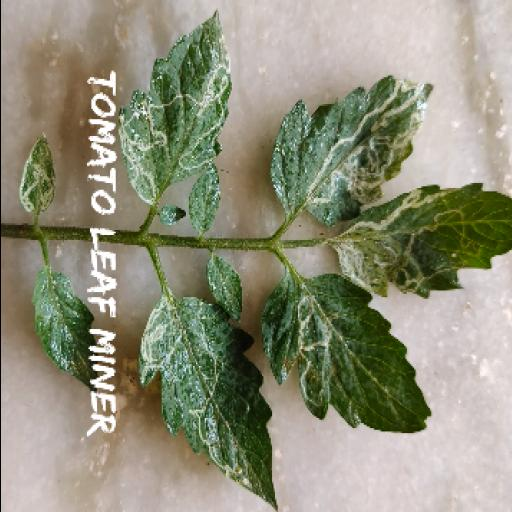Leaf Miner: (138, 294, 279, 512), (259, 274, 433, 434), (268, 72, 436, 228), (116, 6, 234, 206), (336, 179, 512, 297), (18, 134, 56, 216)
